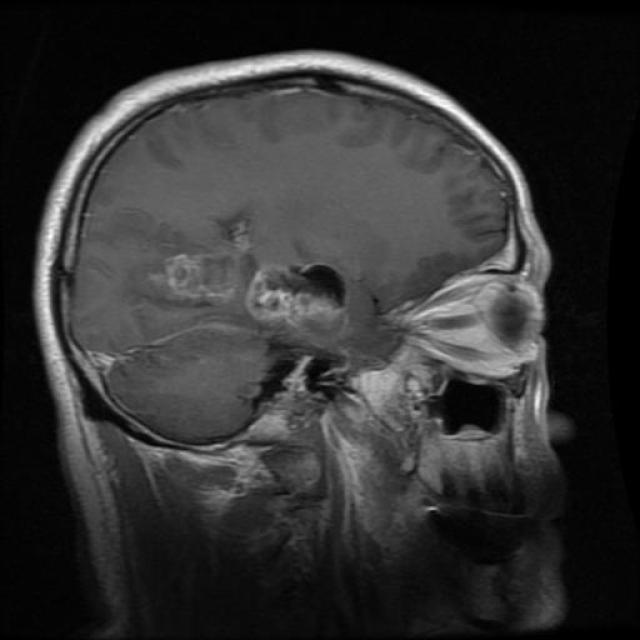glioma: (152, 214, 366, 362)
